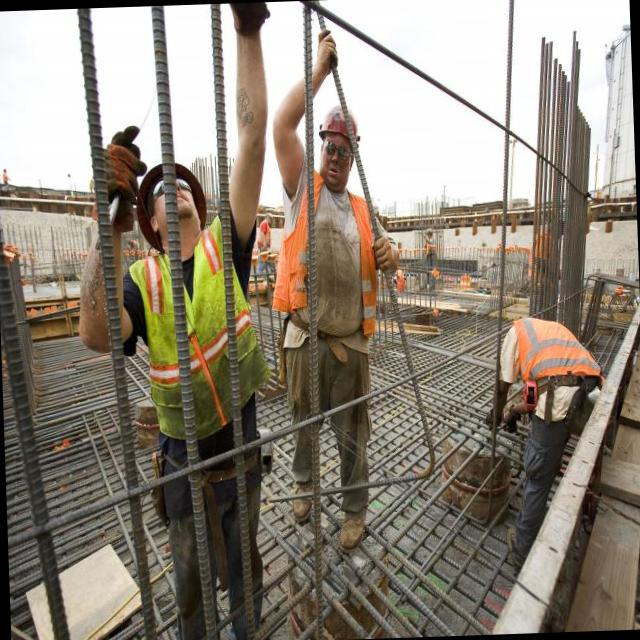Gloves: (82, 135, 142, 244), (233, 3, 278, 42)
Helmet: (144, 143, 210, 243), (318, 105, 370, 142), (262, 210, 274, 223), (425, 225, 433, 235)
Vest: (128, 250, 264, 462), (258, 220, 272, 249)
